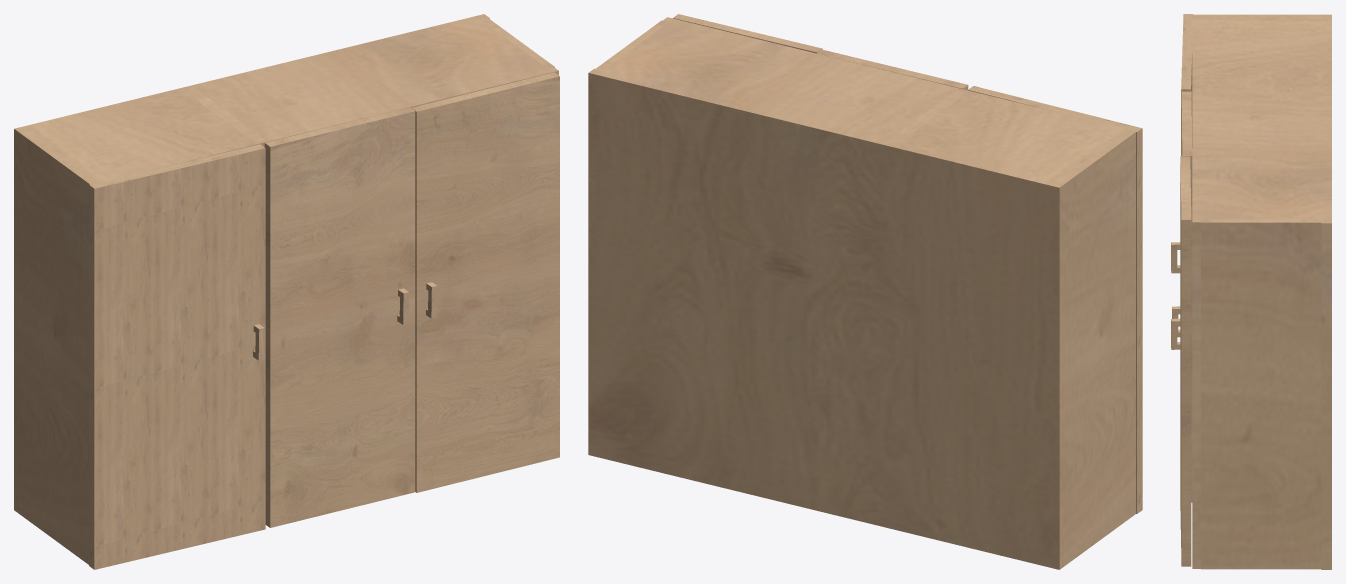
File: waredrobe(1).fbx
3 renders of one model, left to right at view 1: azimuth 30°, elevation 25°; view 2: azimuth 150°, elevation 25°; view 3: azimuth 270°, elevation 25°, orthographic. The views are drawn at different scales.
Visible parts, largest first — view 1: дверь к полкам, основа, дверь к основной части 2, дверь к основной части; view 2: основа, дверь к полкам, дверь к основной части, дверь к основной части 2; view 3: основа, дверь к основной части, дверь к основной части 2, дверь к полкам.
Boxes of the visible parts, left/top/right/bottom form: дверь к полкам: left=89, top=144, right=265, bottom=569; основа: left=14, top=14, right=558, bottom=564; дверь к основной части 2: left=264, top=107, right=415, bottom=527; дверь к основной части: left=411, top=72, right=559, bottom=492; основа: left=588, top=17, right=1135, bottom=569; дверь к полкам: left=968, top=86, right=1142, bottom=513; дверь к основной части: left=673, top=14, right=822, bottom=53; дверь к основной части 2: left=817, top=49, right=968, bottom=90; основа: left=1192, top=14, right=1331, bottom=569; дверь к основной части: left=1171, top=156, right=1191, bottom=566; дверь к основной части 2: left=1172, top=91, right=1192, bottom=502; дверь к полкам: left=1171, top=14, right=1193, bottom=273.
Size of the model in its own units: 840 by 649 by 273.
